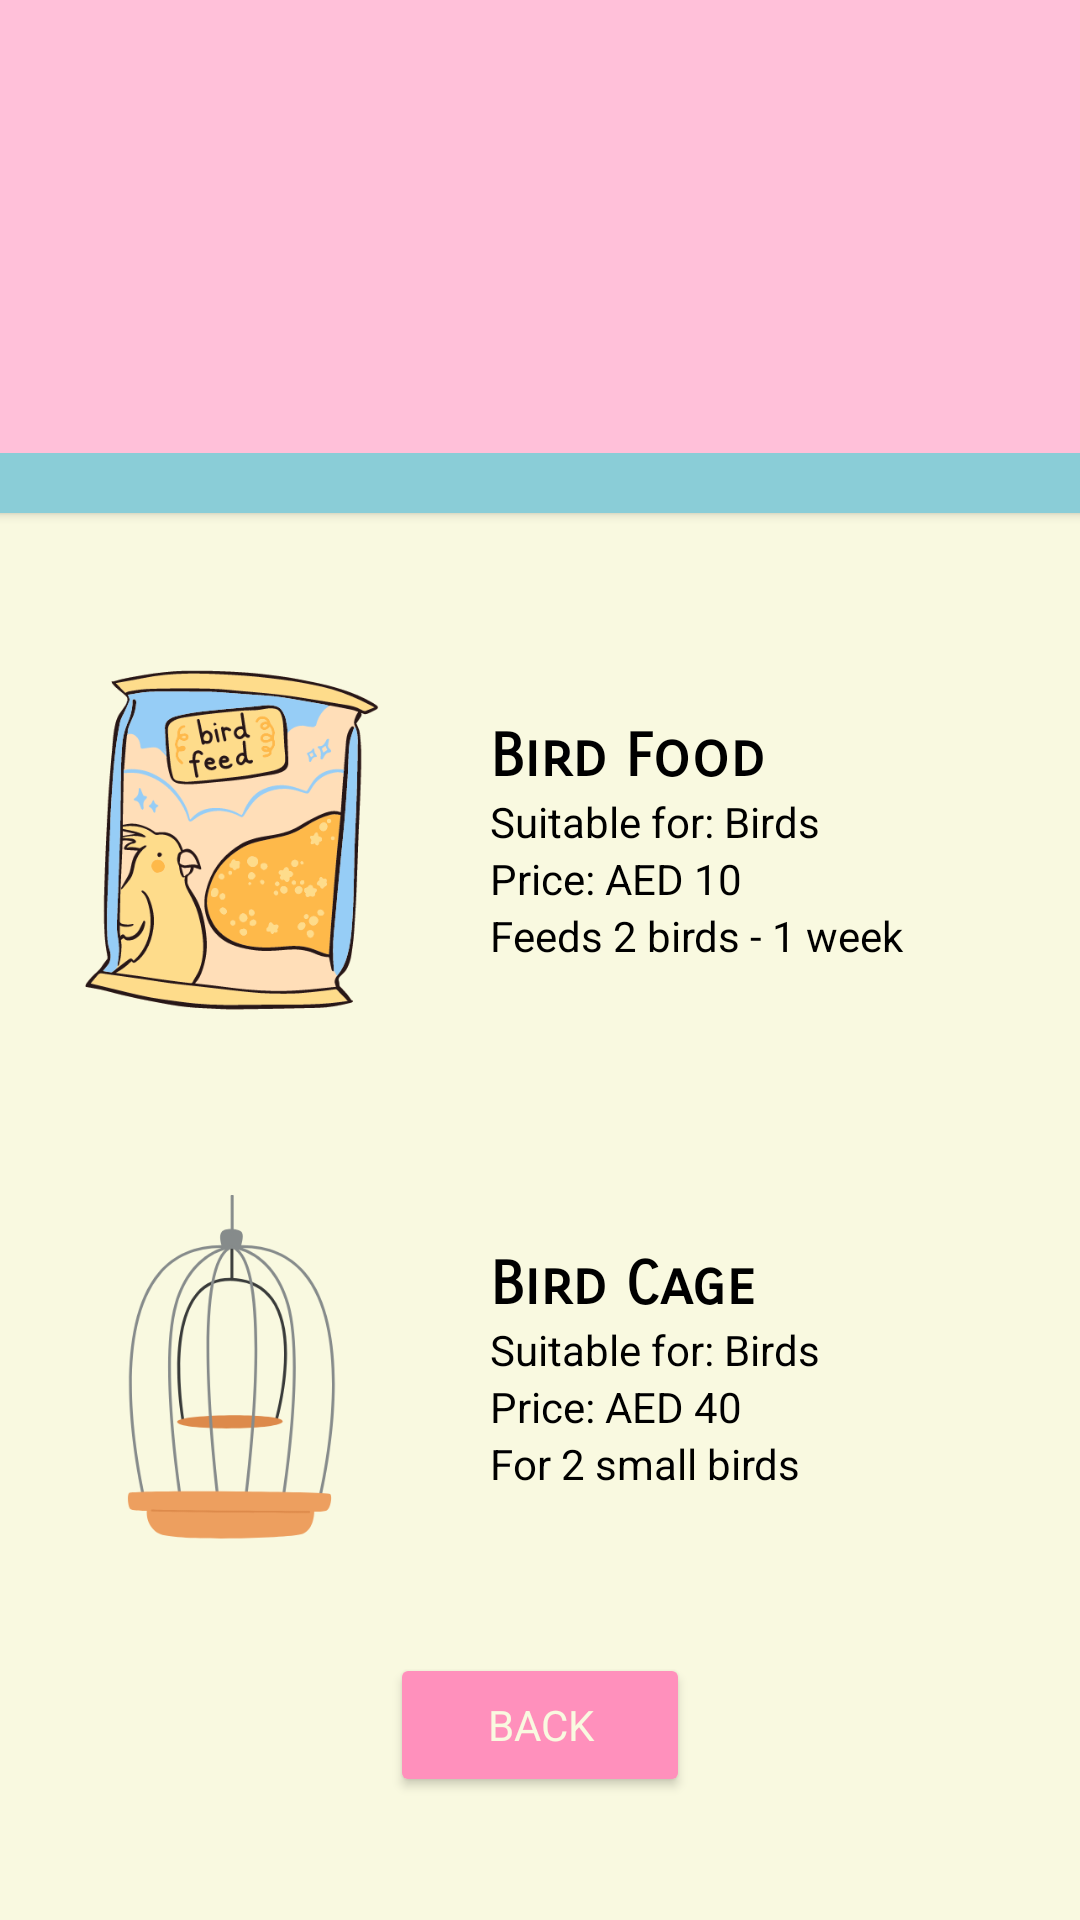

Point at icon controls on the screen. Image size 1080*1920, points as (x,y).
birdaccessory: (231,1367)
